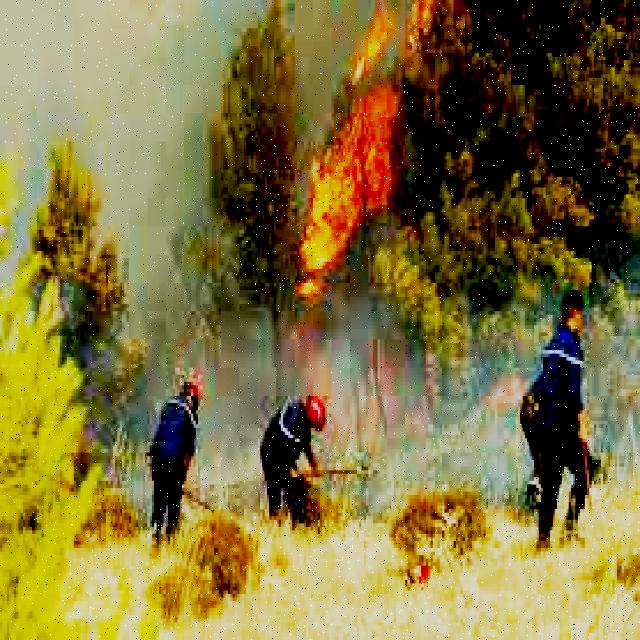api: (296, 81, 400, 296), (358, 14, 390, 78)
asap: (1, 4, 224, 188)
